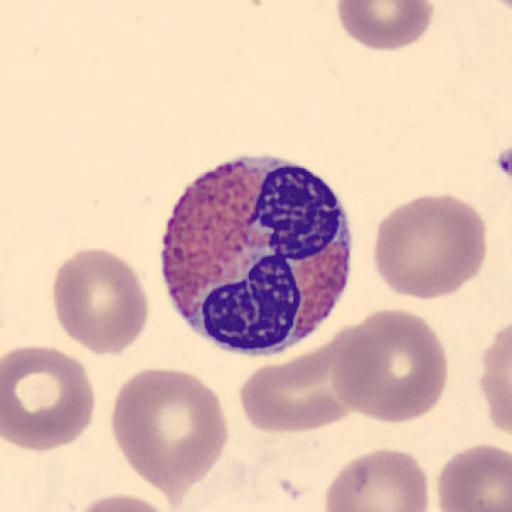RBC: (110, 365, 230, 508), (331, 308, 450, 424), (371, 192, 489, 302), (239, 334, 355, 434), (51, 246, 150, 358), (1, 344, 96, 454), (322, 445, 429, 512), (436, 441, 512, 511), (336, 0, 435, 52), (478, 318, 512, 438), (64, 492, 178, 512)
WBC: (159, 155, 353, 357)
